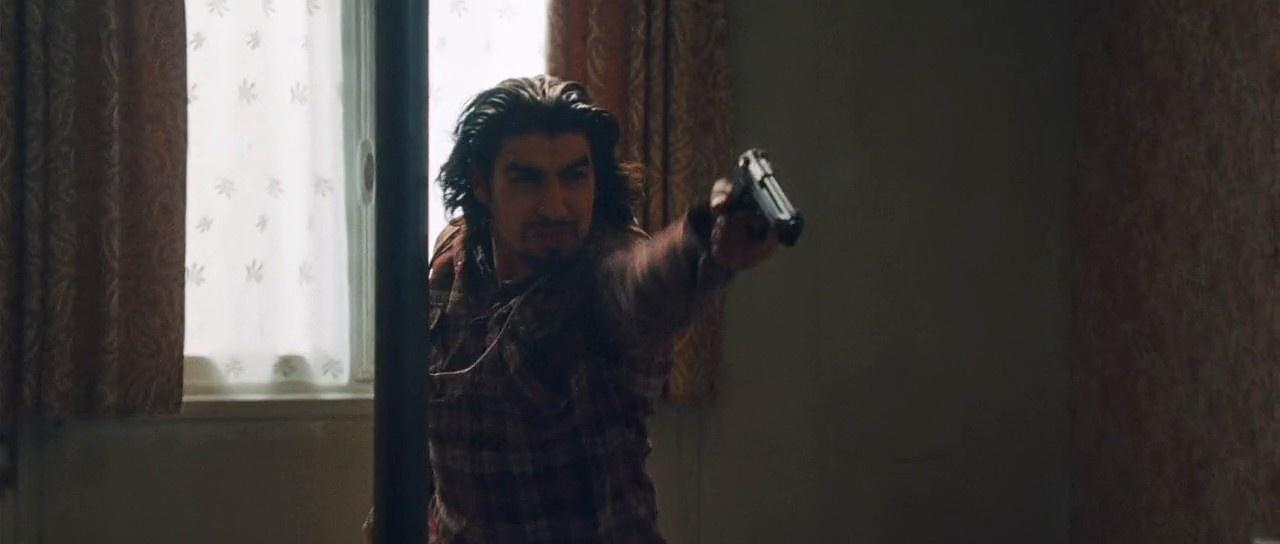gun: (702, 136, 794, 268)
